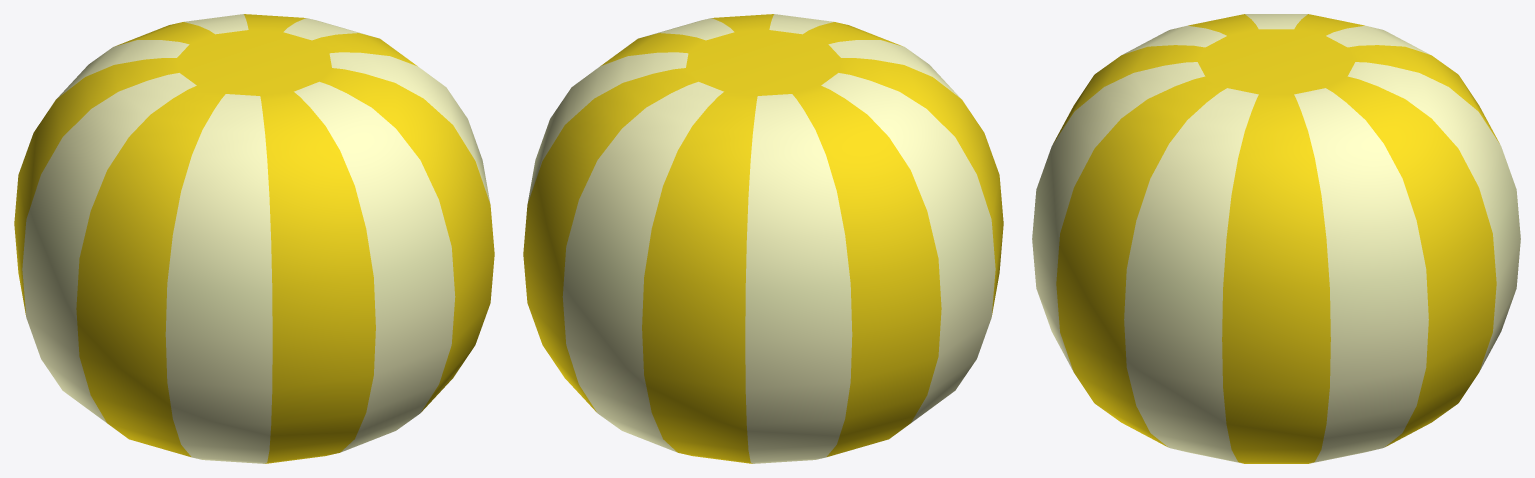
File: candy_hard_15.fbx
3 renders of one model, left to right at view 1: azimuth 30°, elevation 25°; view 2: azimuth 150°, elevation 25°; view 3: azimuth 270°, elevation 25°, orthographic.
Parts seen in each view (by area): view 1: c_h_15; view 2: c_h_15; view 3: c_h_15.
Boxes of the visible parts, left/top/right/bottom form: c_h_15: left=14, top=14, right=494, bottom=463; c_h_15: left=523, top=14, right=1003, bottom=463; c_h_15: left=1032, top=14, right=1520, bottom=463.
Bounding box in the file's own units: 134 × 110 × 137.
